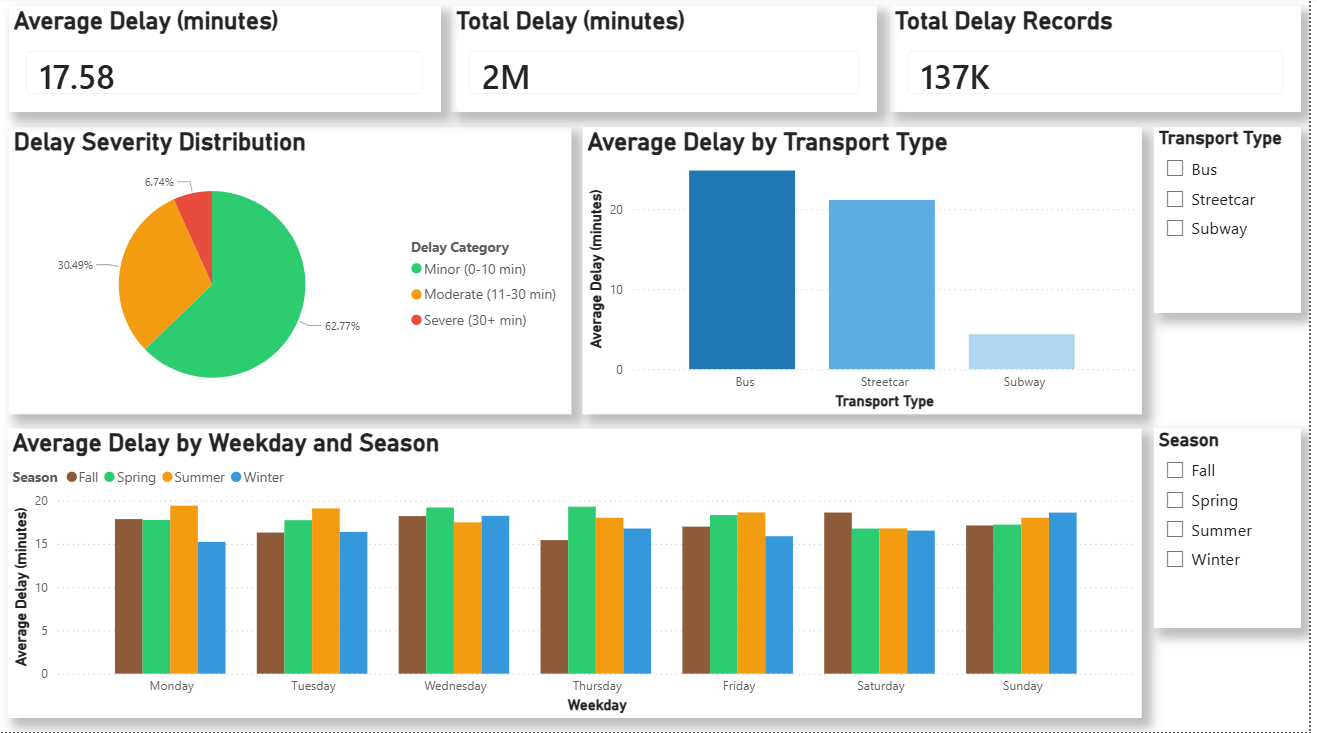

Layout of this report page (visuals, bound fields, positions):
{"tool":"powerbi","page":{"name":"Descriptive Analysis","canvas":[1280,720],"ordinal":0},"visuals":[{"type":"pieChart","title":"Delay Severity Distribution","fields":{"Category":["TTC_Weather.Delay_Category"],"Y":["TTC_Weather.Total_Records"]},"box":[8.2,128.6,550.2,280.7],"z":0},{"type":"cardVisual","title":"Average Delay (minutes)","fields":{"Data":["TTC_Weather.Avg_Delay"]},"box":[8.2,10.2,422.6,104.1],"z":1000},{"type":"cardVisual","title":"Total Delay (minutes)","fields":{"Data":["TTC_Weather.Total Delay Minutes"]},"box":[442,10.2,416.5,104.1],"z":2000},{"type":"cardVisual","title":"Total Delay Records","fields":{"Data":["TTC_Weather.Total_Records"]},"box":[870.7,10.2,402.2,104.1],"z":3000},{"type":"clusteredColumnChart","title":"Average Delay by Transport Type","fields":{"Y":["TTC_Weather.Avg_Delay"],"Category":["TTC_Weather.Transport_Type"]},"box":[569.6,128.6,547.1,280.7],"z":4000},{"type":"clusteredColumnChart","title":"Average Delay by Weekday  and Season","fields":{"Y":["TTC_Weather.Avg_Delay"],"Series":["TTC_Weather.Season"],"Category":["DateTable.Weekday Name"]},"box":[7.7,423.5,1109.5,283.6],"z":6000},{"type":"slicer","title":"Transport Type","fields":{"Values":["TTC_Weather.Transport_Type"]},"box":[1128.9,128.6,143.9,181.7],"z":7000},{"type":"slicer","title":"Season","fields":{"Values":["TTC_Weather.Season"]},"box":[1128.9,423.6,143.9,195],"z":8000}]}

Visuals, with their boxes in screenshot pixels (x1, y1, x2, y2), scaled from the page's 1280x720 canvas onto the 1317x733 screenshot:
"Delay Severity Distribution" pieChart: crop(8, 131, 575, 417)
"Average Delay (minutes)" cardVisual: crop(8, 10, 443, 116)
"Total Delay (minutes)" cardVisual: crop(455, 10, 883, 116)
"Total Delay Records" cardVisual: crop(896, 10, 1310, 116)
"Average Delay by Transport Type" clusteredColumnChart: crop(586, 131, 1149, 417)
"Average Delay by Weekday  and Season" clusteredColumnChart: crop(8, 431, 1149, 720)
"Transport Type" slicer: crop(1162, 131, 1310, 316)
"Season" slicer: crop(1162, 431, 1310, 630)
